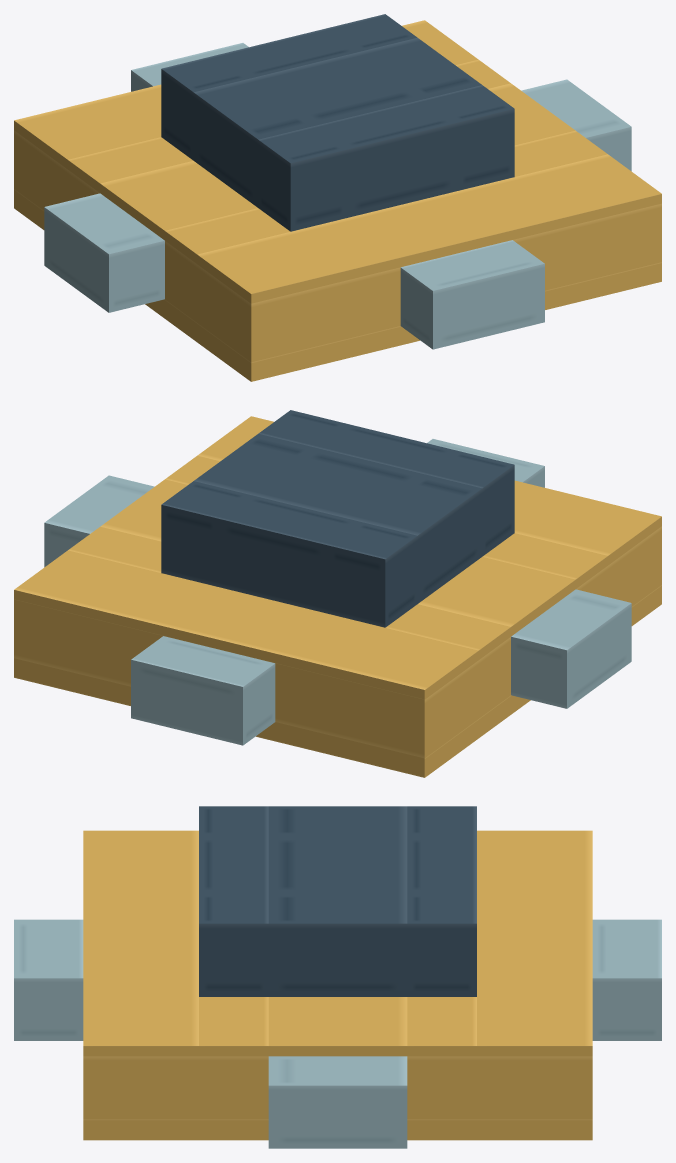
Rendered from sc_mount_turret_gearbox.obj.
3 views of the same model, one above another, from view 1: azimuth 30°, elevation 25°; view 2: azimuth 150°, elevation 25°; view 3: azimuth 270°, elevation 25° (orthographic). The views are drawn at different scales.
Bounding box in the file's own units: 5.6 × 1.6 × 5.6.
Materials: 1 (1 with a texture image).
